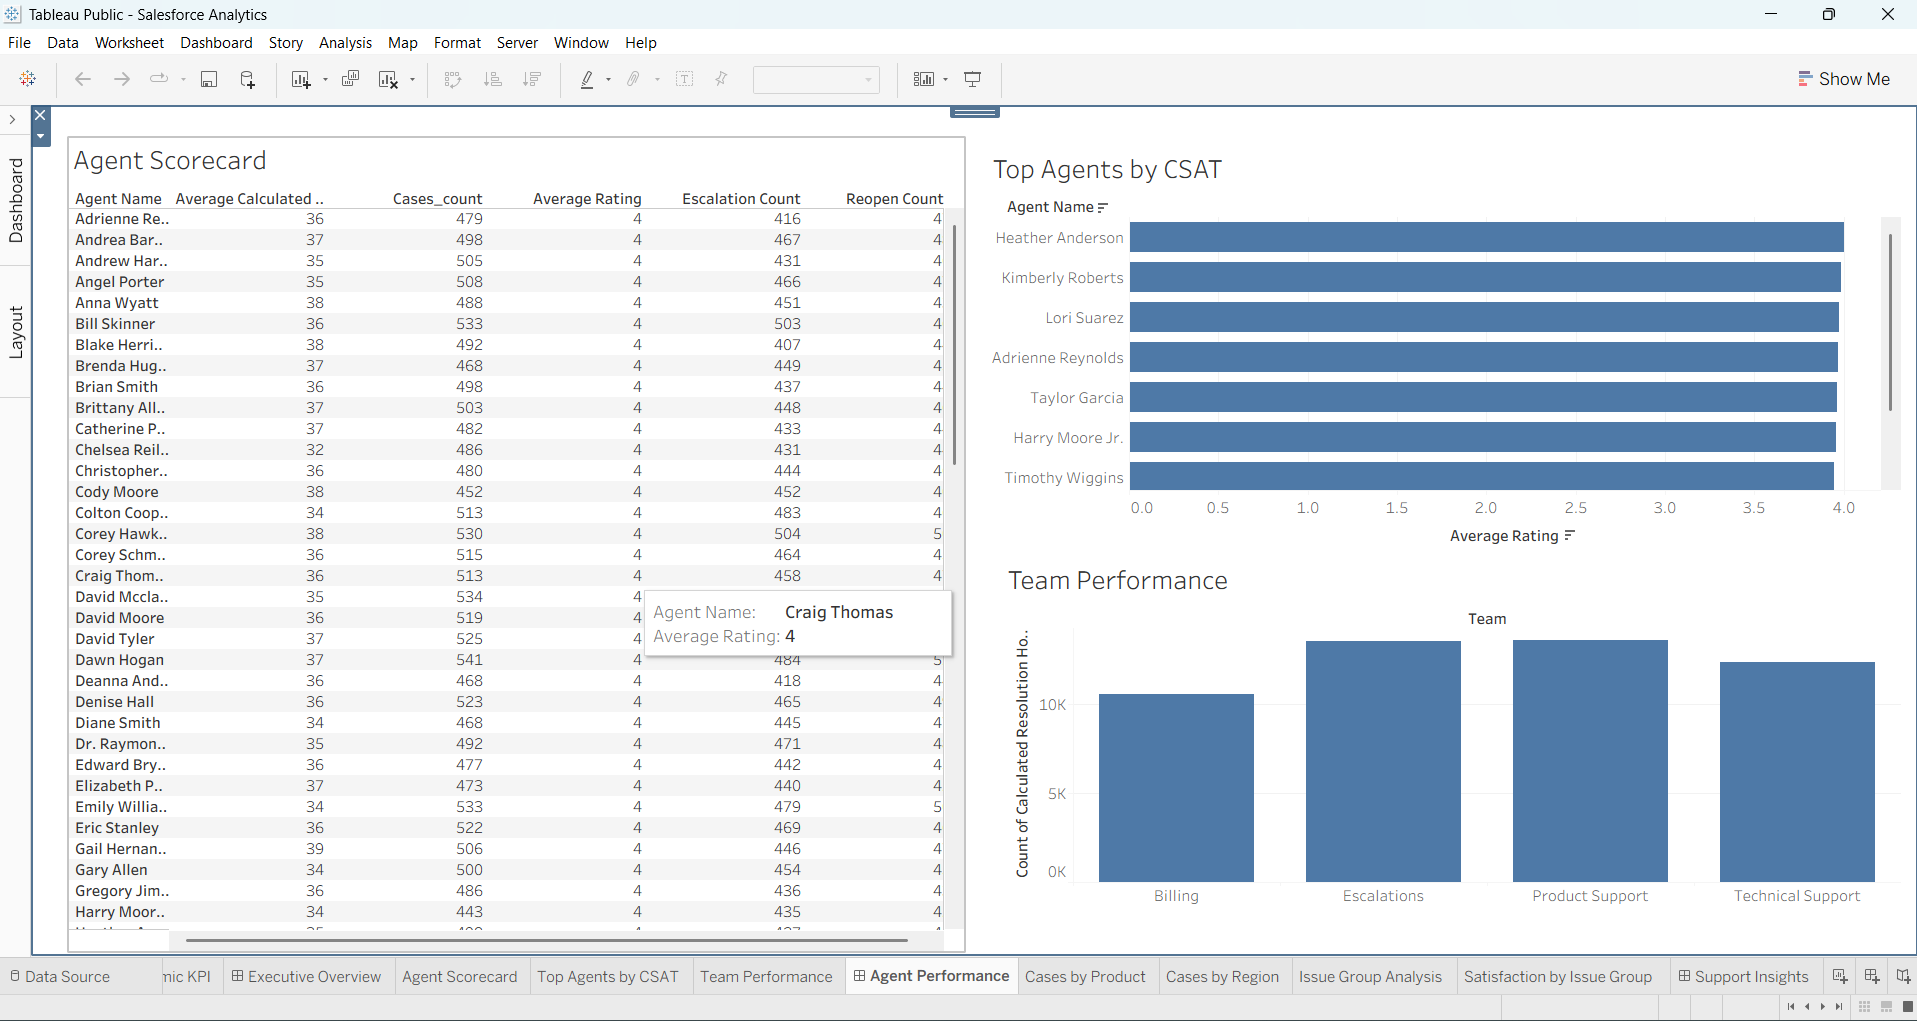

This screenshot's page, from the dashboard's own definition file:
{"tool":"tableau","page":{"name":"Agent Performance","canvas":[1000,1000],"units":"permille","ordinal":0},"visuals":[{"type":"worksheet","title":"Agent Scorecard","mark":"Automatic","rows":["AGENT_NAME"],"box":[19.9,38.8,474.4,955.4]},{"type":"worksheet","title":"Top Agents by CSAT","mark":"Automatic","rows":["AGENT_NAME"],"cols":["Calculation_1482707449995266"],"box":[507.5,49.4,482.8,477.1]},{"type":"worksheet","title":"Team Performance","mark":"Automatic","rows":["CALCULATED_RESOLUTION_HOURS"],"cols":["TEAM"],"box":[515.4,532.3,474.9,427.7]}]}

Visuals, with their boxes on the dashboard's canvas, which has no fixed pixel size, in thousandths of its width and height (x1, y1, x2, y2). These are canvas units, not pixel positions in the 1917x1021 screenshot, which may show the page scaled, cropped or inside an application window:
"Agent Scorecard" worksheet: box=[20, 39, 494, 994]
"Top Agents by CSAT" worksheet: box=[508, 49, 990, 526]
"Team Performance" worksheet: box=[515, 532, 990, 960]
